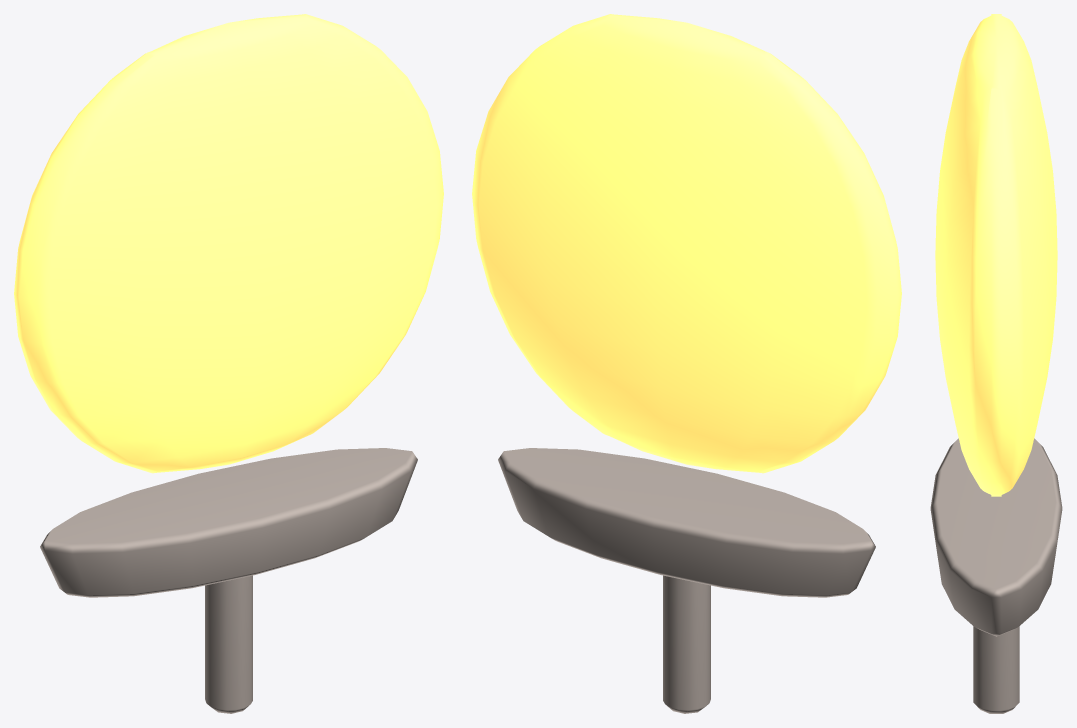
The model's file is SM_Street_Light_01.fbx.
3 views of the same model, side by side, from view 1: azimuth 30°, elevation 25°; view 2: azimuth 150°, elevation 25°; view 3: azimuth 270°, elevation 25° (orthographic). The views are drawn at different scales.
Parts seen in each view (by area): view 1: SM_Street_Light_01; view 2: SM_Street_Light_01; view 3: SM_Street_Light_01.
Boxes of the visible parts, x1,y1,x2,y2 form: SM_Street_Light_01: [14, 14, 443, 713]; SM_Street_Light_01: [472, 14, 901, 713]; SM_Street_Light_01: [930, 14, 1062, 713].
Bounding box in the file's own units: 52.41 × 80.65 × 14.45.
